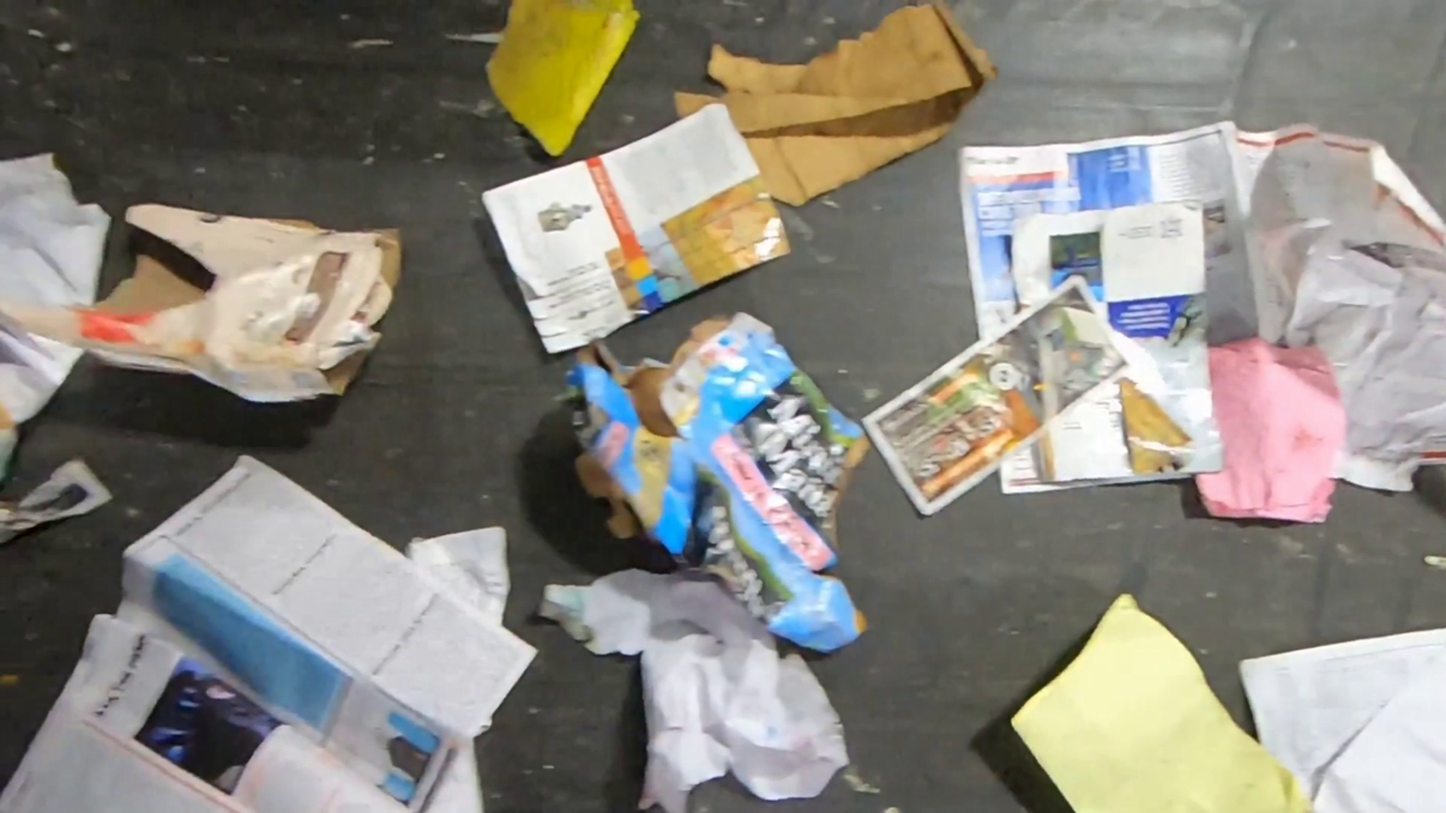cardboard: (564, 308, 876, 656), (0, 203, 404, 405), (478, 102, 794, 355), (1118, 375, 1193, 473)
